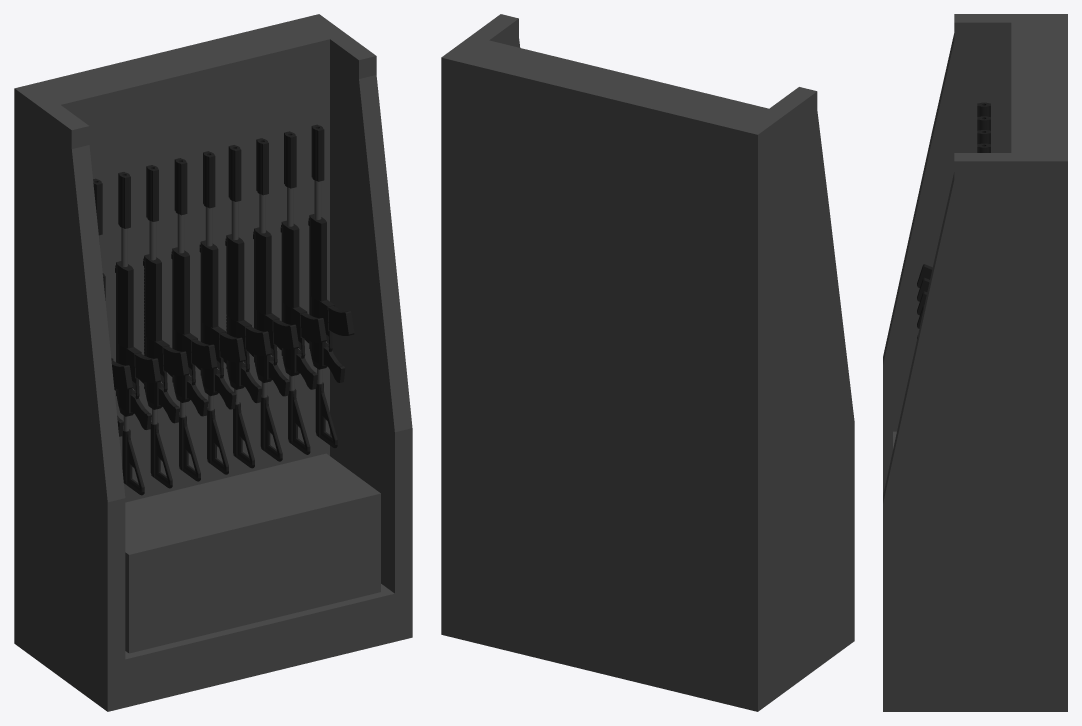
The model's file is weaponlocker2 1.fbx.
3 renders of one model, left to right at view 1: azimuth 30°, elevation 25°; view 2: azimuth 150°, elevation 25°; view 3: azimuth 270°, elevation 25°, orthographic. The views are drawn at different scales.
Parts seen in each view (by area): view 1: locker; view 2: locker; view 3: locker.
Part boxes in pixels (x1,y1,x2,y2): locker: (14,14,412,711); locker: (441,14,854,711); locker: (883,14,1067,711).
Bounding box in the file's own units: 200 × 348 × 106.
